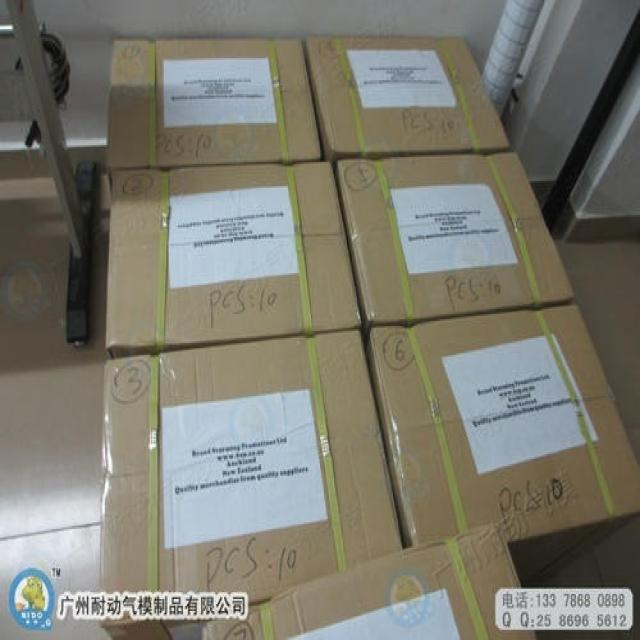box: (102, 327, 405, 637), (366, 305, 639, 590), (108, 159, 363, 357), (335, 149, 575, 326), (201, 521, 535, 638), (108, 39, 322, 170), (303, 35, 512, 164)
